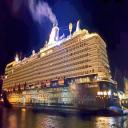cruises: (4, 19, 126, 118)
